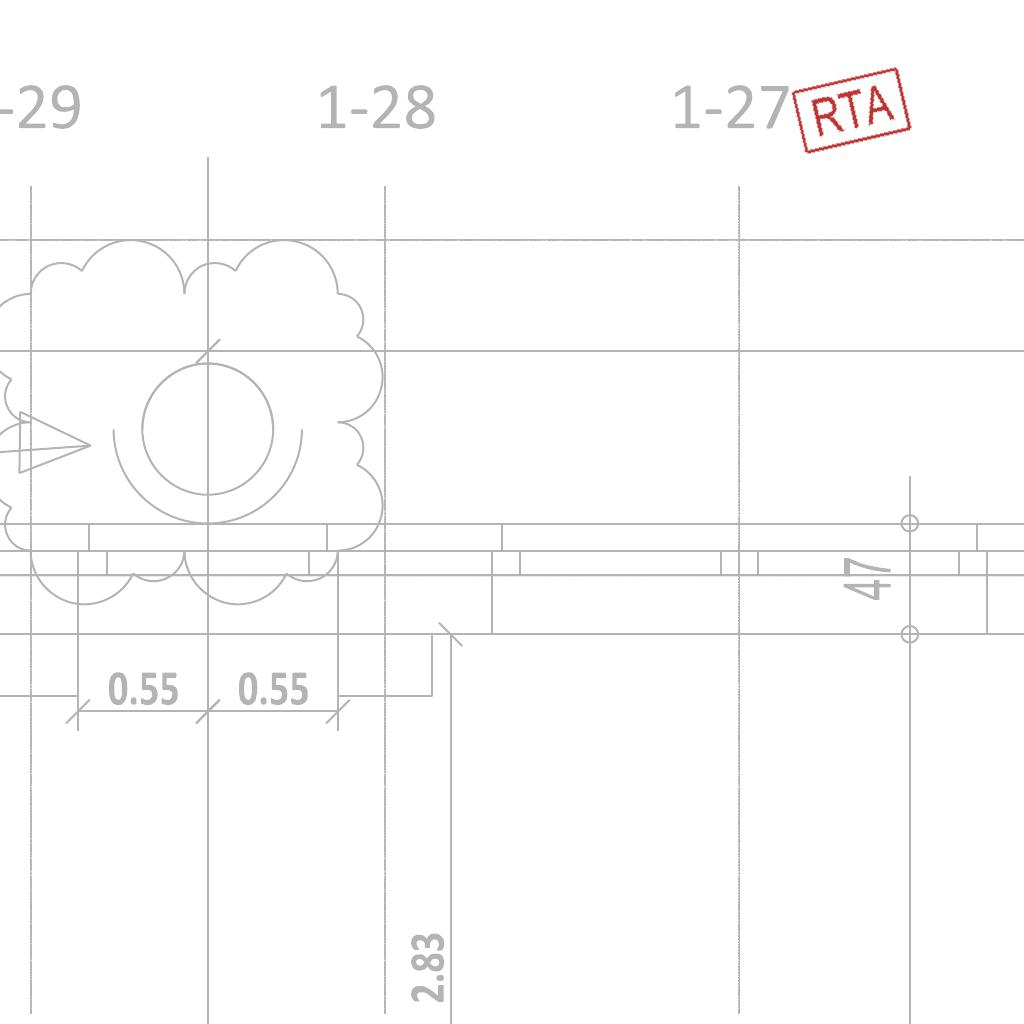Ruf-und_Abstelltaster: (787, 64, 914, 158)
